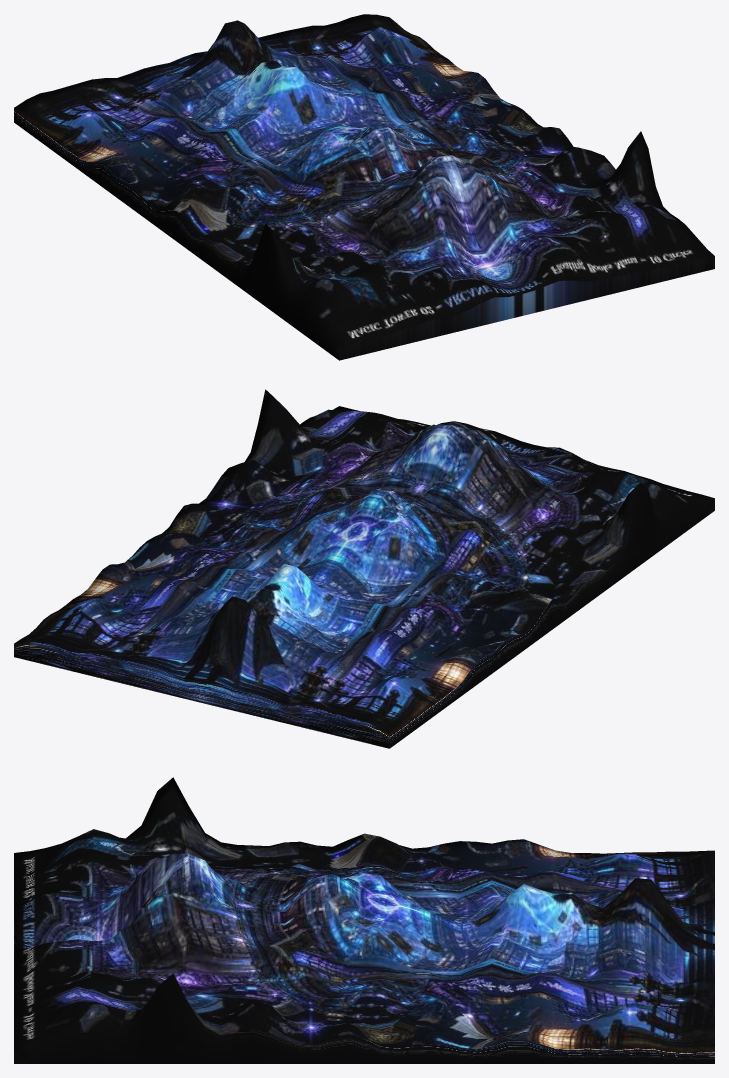
Rendered from TOWER_02_Arcane_Library.glb.
The picture shows the model from 3 angles, top to bottom: view 1: azimuth 30°, elevation 25°; view 2: azimuth 150°, elevation 25°; view 3: azimuth 270°, elevation 25°; orthographic projection. The views are drawn at different scales.
Parts seen in each view (by area): view 1: TOWER_02_Arcane_Library; view 2: TOWER_02_Arcane_Library; view 3: TOWER_02_Arcane_Library.
Part boxes in pixels (left/top/right/bottom): TOWER_02_Arcane_Library: left=14, top=14, right=714, bottom=360; TOWER_02_Arcane_Library: left=14, top=389, right=714, bottom=748; TOWER_02_Arcane_Library: left=14, top=777, right=714, bottom=1063.
Bounding box in the file's own units: 2 × 0.51 × 3.
1 material, 1 textured.
